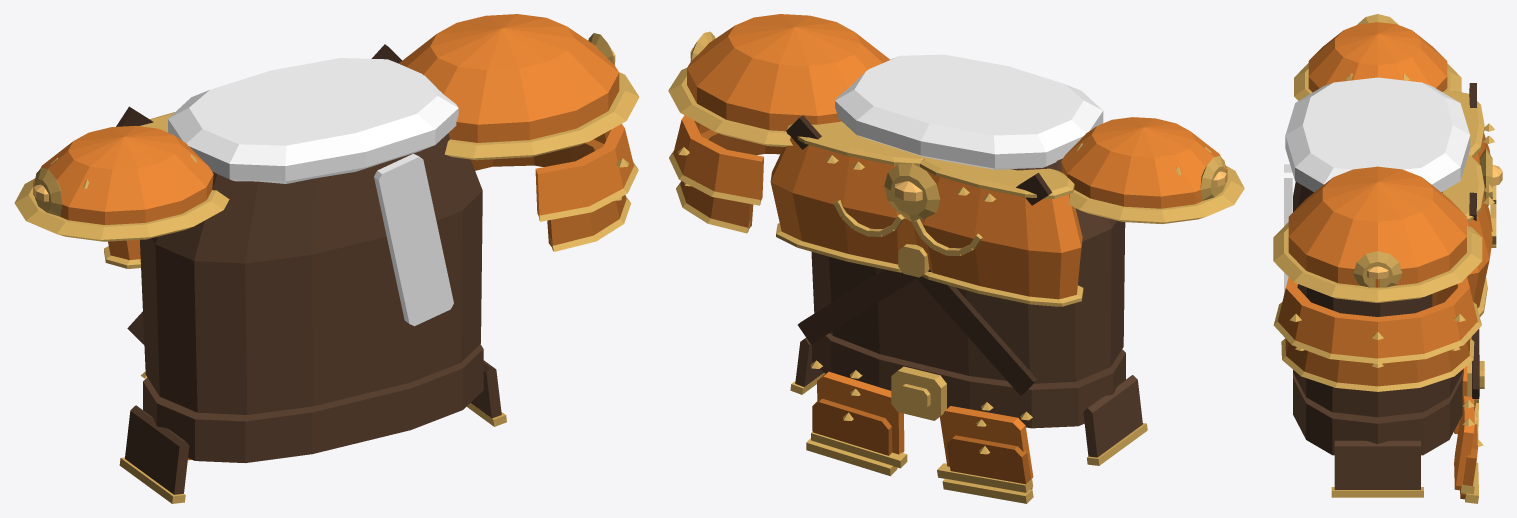
Rendered from look3_armor_dualblade_legendary.fbx.
The picture shows the model from 3 angles, left to right: view 1: azimuth 30°, elevation 25°; view 2: azimuth 150°, elevation 25°; view 3: azimuth 270°, elevation 25°; orthographic projection. The views are drawn at different scales.
Parts seen in each view (by area): view 1: Main, Tasset; view 2: Main, Tasset; view 3: Main, Tasset.
Boxes of the visible parts, box(x1,y1,x2,y2) form: Main: box(14, 14, 639, 463); Tasset: box(119, 360, 506, 503); Main: box(668, 14, 1244, 428); Tasset: box(790, 338, 1147, 503); Main: box(1273, 14, 1502, 455); Tasset: box(1331, 337, 1483, 503).
Bounding box in the file's own units: 422 × 273 × 159.
